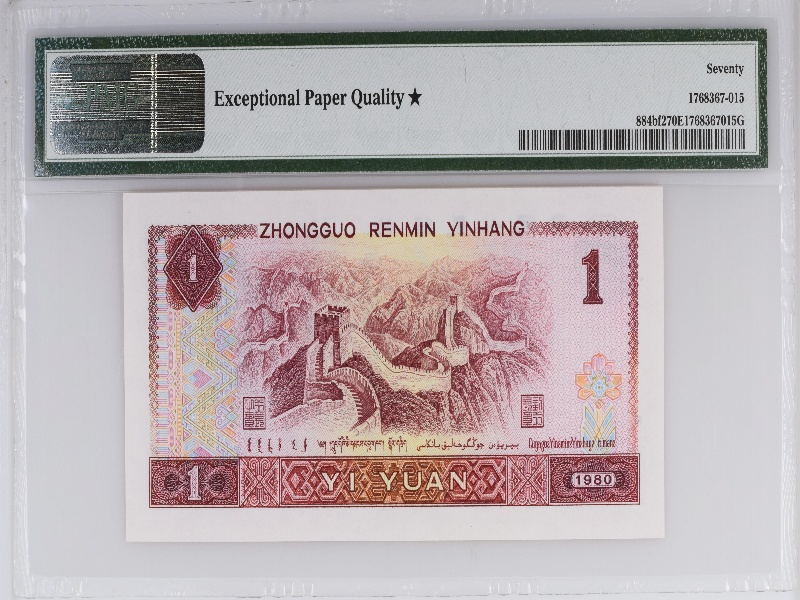papernote: (118, 189, 669, 542)
